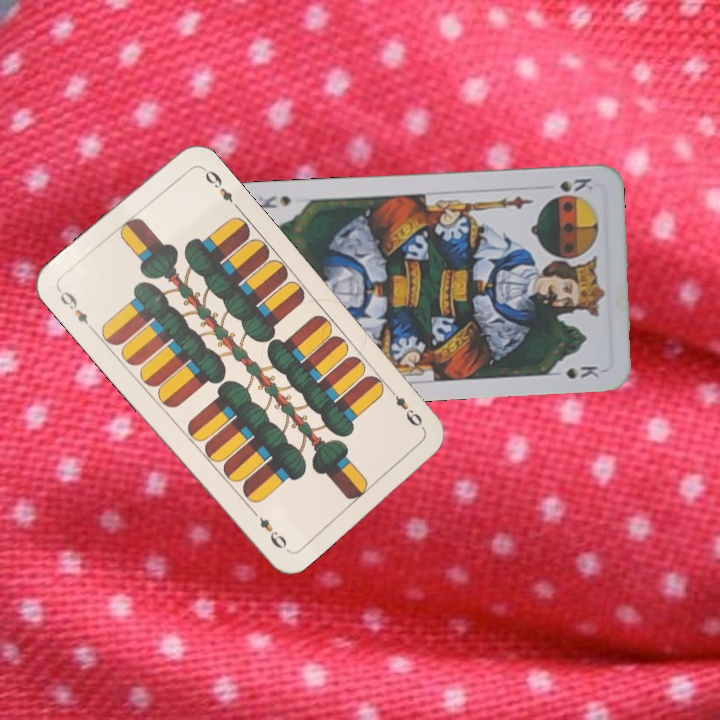E9: (54, 285, 97, 334), (385, 384, 428, 433)
SK: (555, 174, 594, 195)
